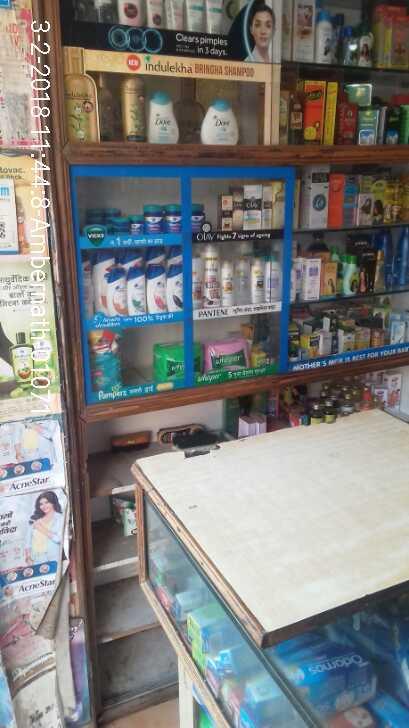beauty: (202, 242, 219, 310), (145, 263, 166, 309), (107, 269, 126, 317), (166, 260, 184, 310), (127, 269, 145, 316), (254, 255, 267, 306), (220, 257, 234, 304)
pharmacy: (87, 333, 121, 389), (210, 341, 251, 369), (189, 198, 206, 232), (165, 199, 181, 232), (144, 204, 162, 232), (130, 212, 146, 236)
